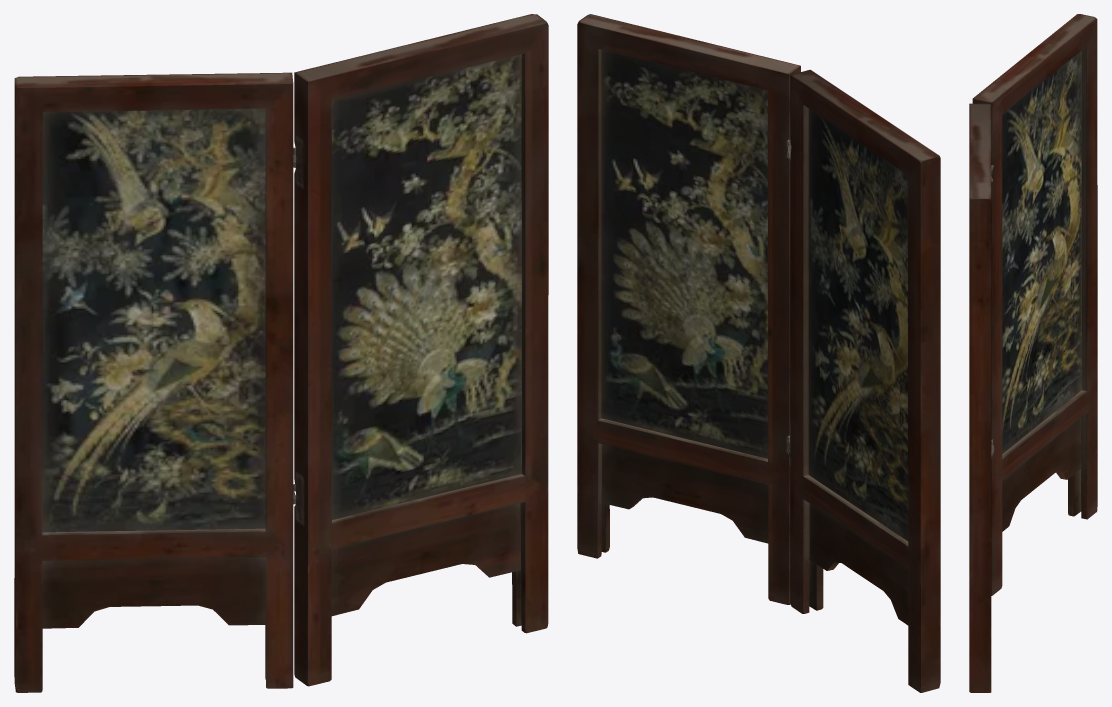
Rendered from chinese_screen_panels.glb.
3 views of the same model, side by side, from view 1: azimuth 30°, elevation 25°; view 2: azimuth 150°, elevation 25°; view 3: azimuth 270°, elevation 25° (orthographic). The views are drawn at different scales.
Visible parts, largest first — view 1: chinese_screen_panels_a; view 2: chinese_screen_panels_a; view 3: chinese_screen_panels_a.
Part boxes in pixels (x1,y1,x2,y2): chinese_screen_panels_a: (14,14,548,692); chinese_screen_panels_a: (577,14,940,692); chinese_screen_panels_a: (969,14,1097,692).
Bounding box in the file's own units: 1.29 × 1.6 × 0.3769.
Materials: 1 (1 with a texture image).
